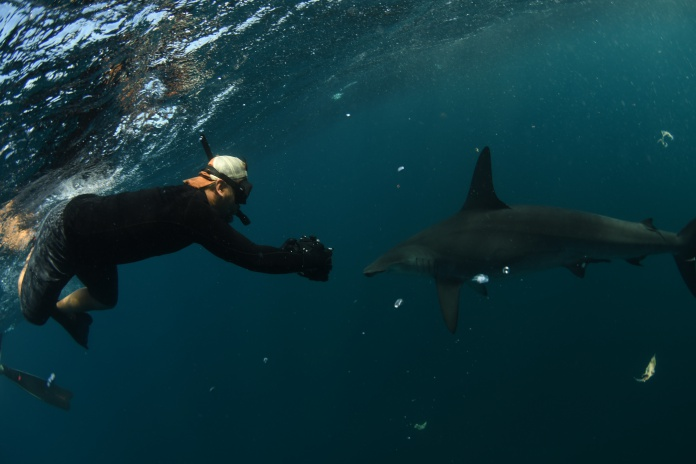Hammer: (353, 131, 696, 346)
